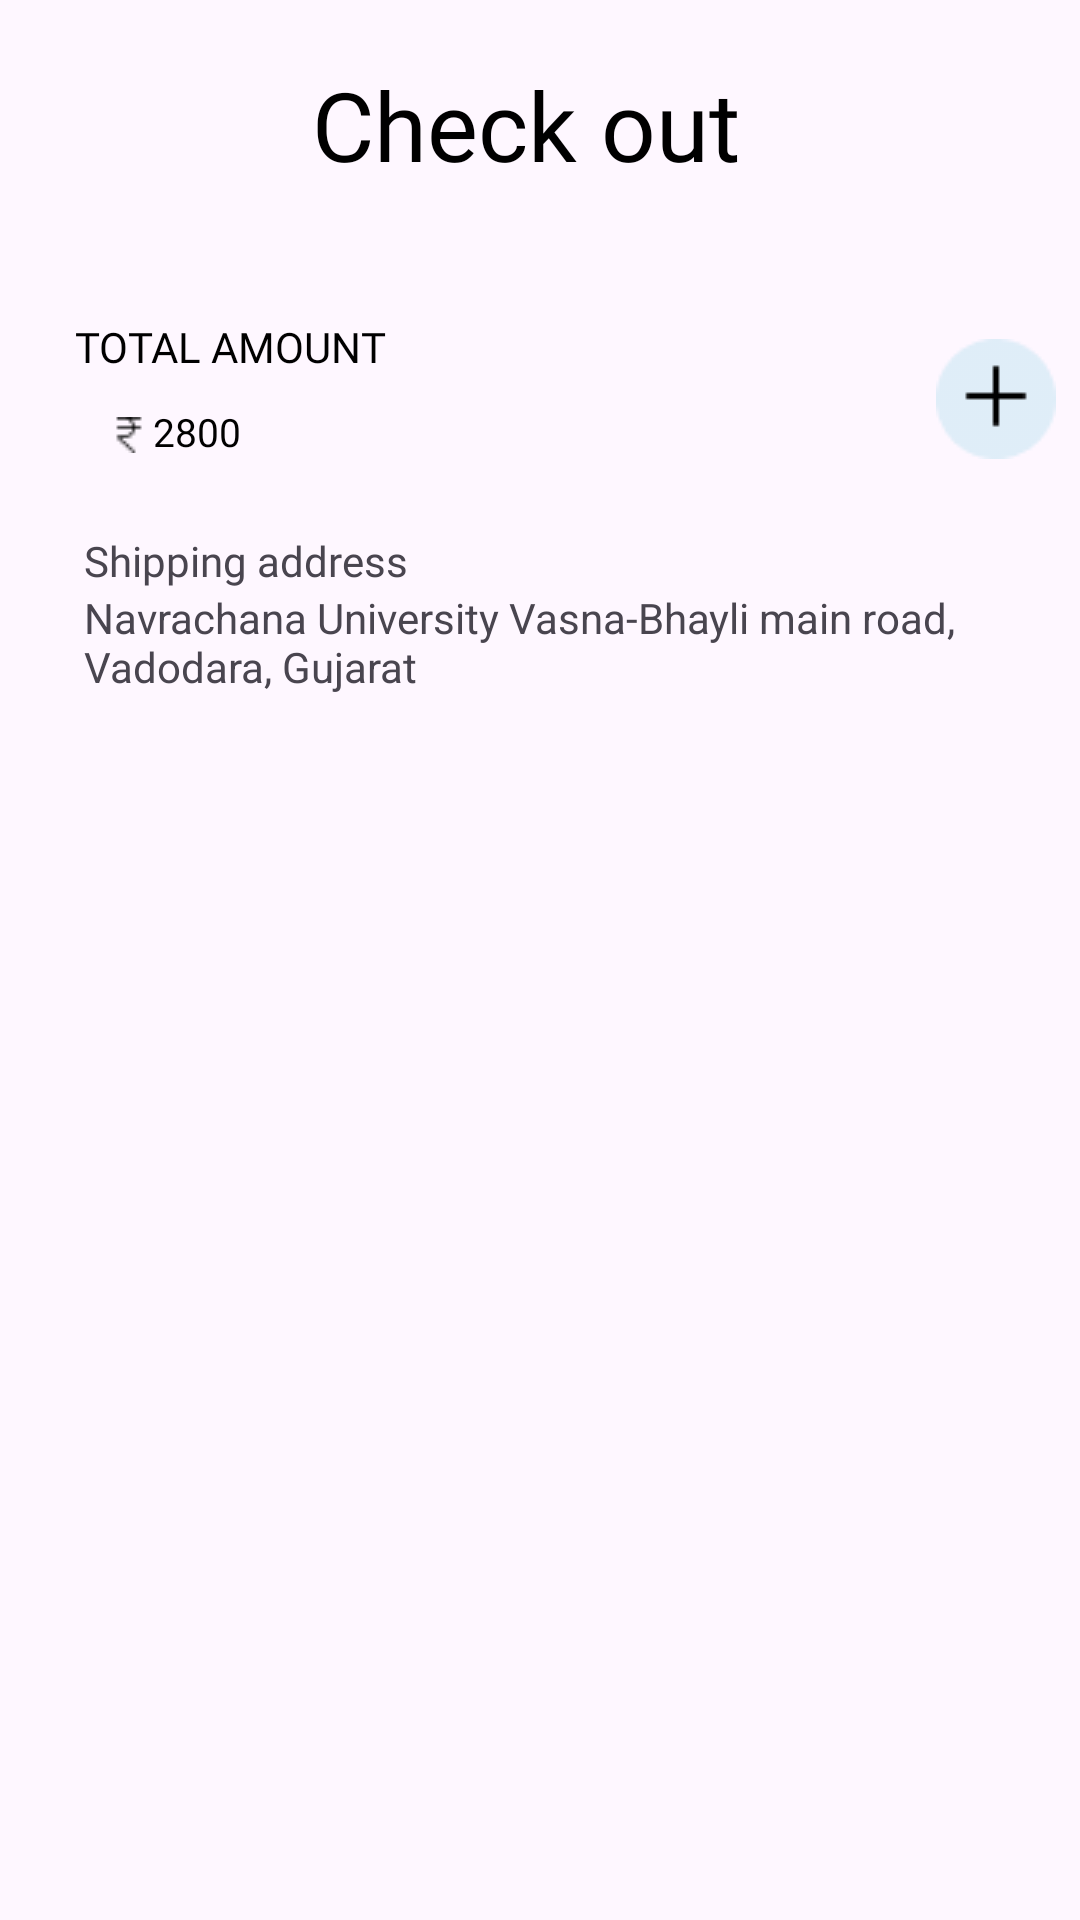

Named icons in this screenshot (1080x1920) and their centers, [x,y]:
rupee: [129,435]
